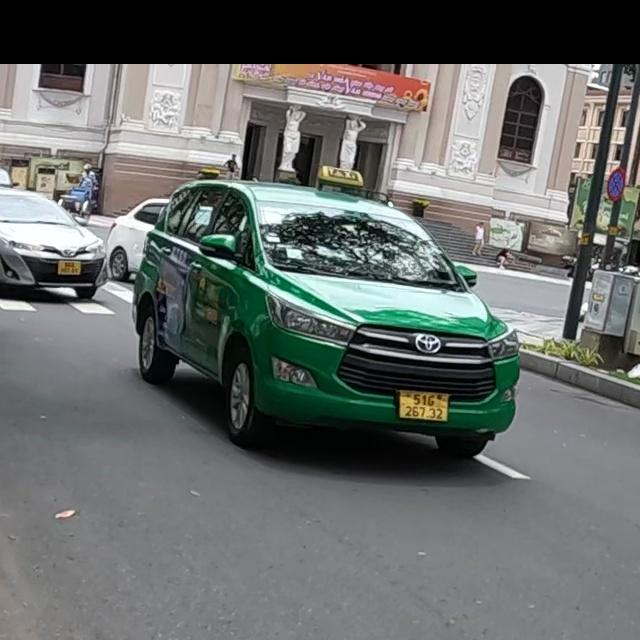license-plate: (397, 390, 450, 421)
